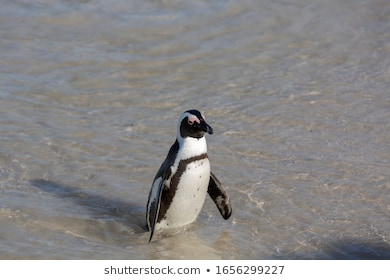penguin: (123, 93, 242, 248)
